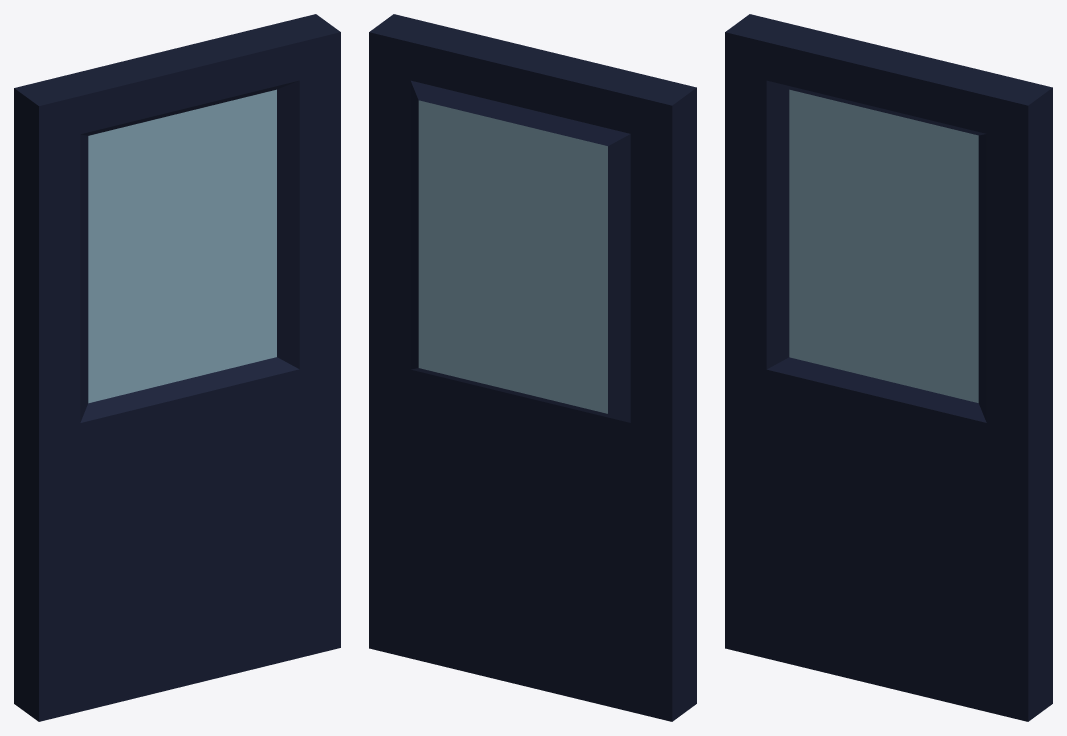
Rendered from DoorA_Model.fbx.
3 views of the same model, side by side, from view 1: azimuth 30°, elevation 25°; view 2: azimuth 150°, elevation 25°; view 3: azimuth 330°, elevation 25° (orthographic).
Parts seen in each view (by area): view 1: DoorA; view 2: DoorA; view 3: DoorA.
Part boxes in pixels (x1,y1,x2,y2): DoorA: (14,14,340,721); DoorA: (369,14,696,721); DoorA: (725,14,1052,721).
Bounding box in the file's own units: 1.54 × 2.99 × 0.2857.
